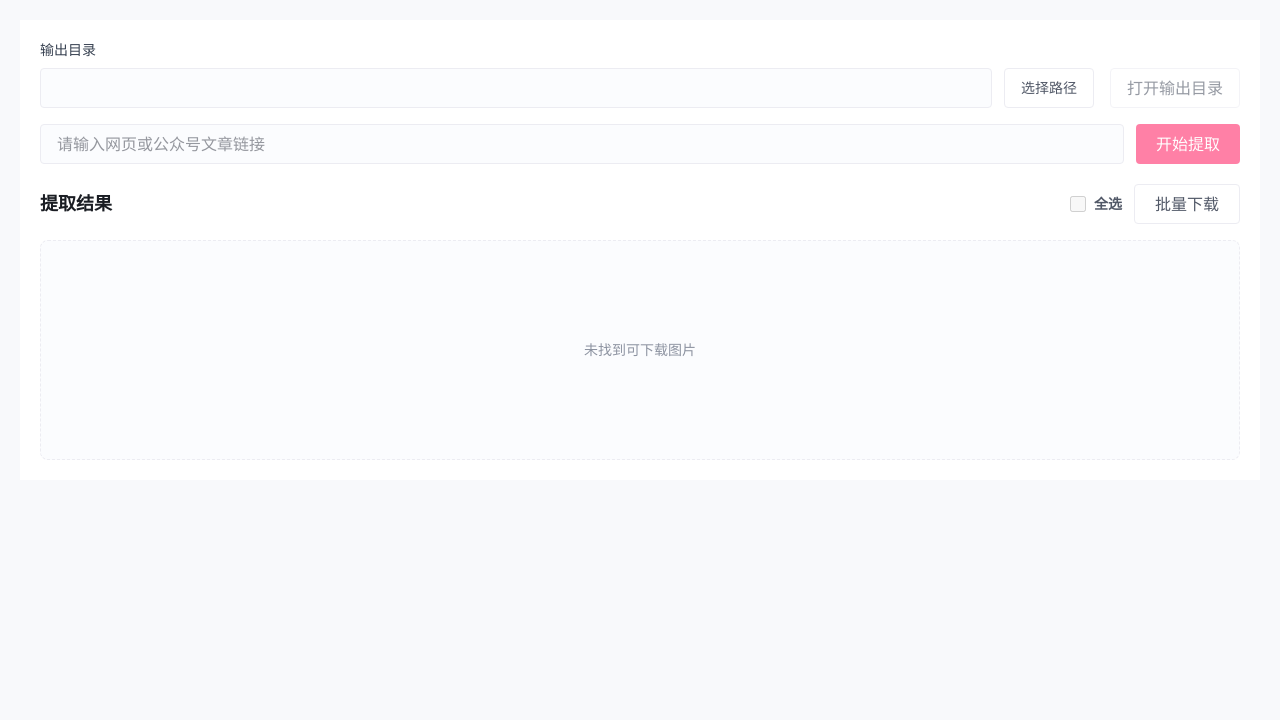
Test case: ImageDownloadPage › renders results as a square product grid without selected red borders
The width and height of the screenshot is (1280, 720).
Step 1. Click the button "选择路径" → (1049, 88), box [1004, 68, 1094, 108]
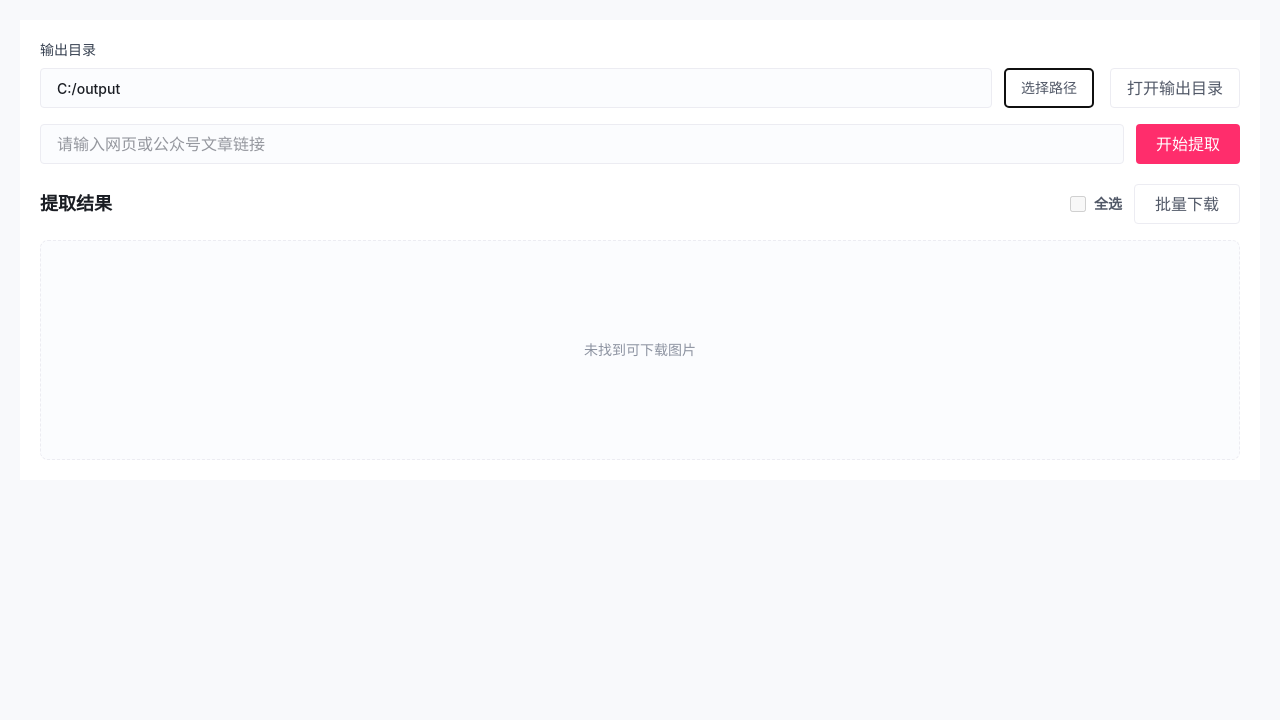
Step 2. Type "https://example.com/post" into the field with placeholder "请输入网页或公众号文章链接" → (582, 144), box [40, 124, 1124, 164]
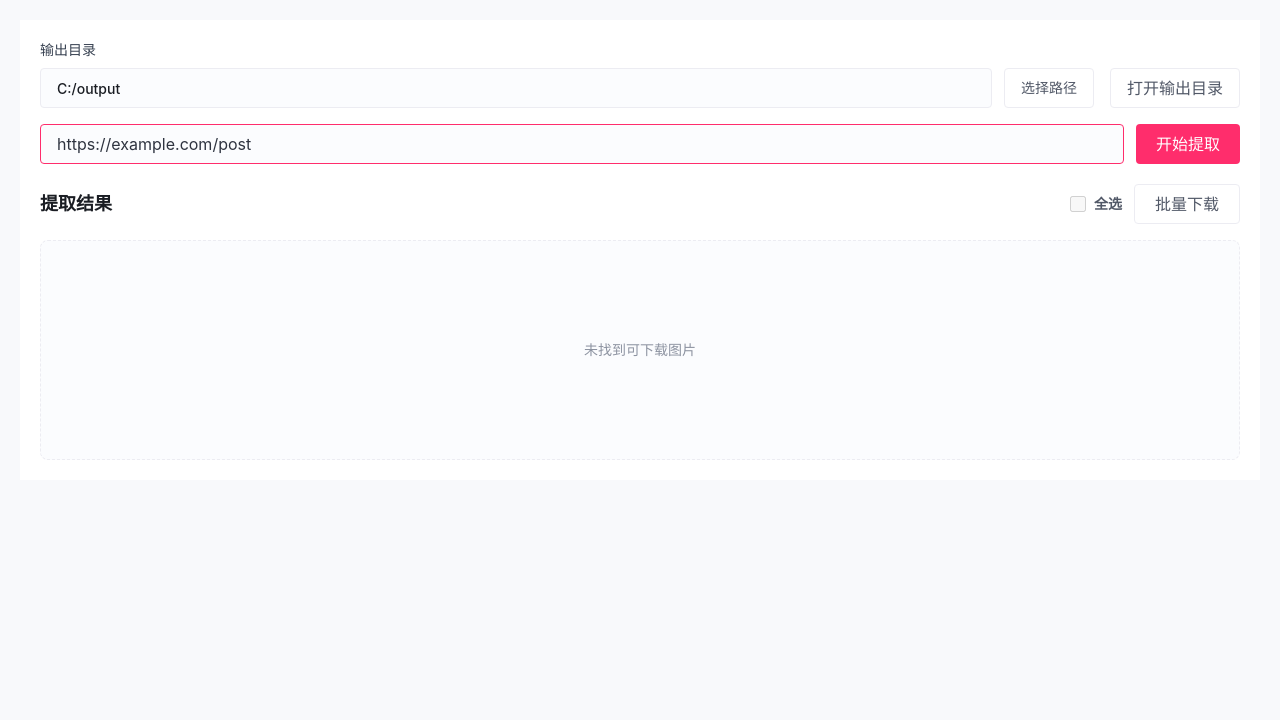
Step 3. Click the button "开始提取" → (1188, 144), box [1136, 124, 1240, 164]
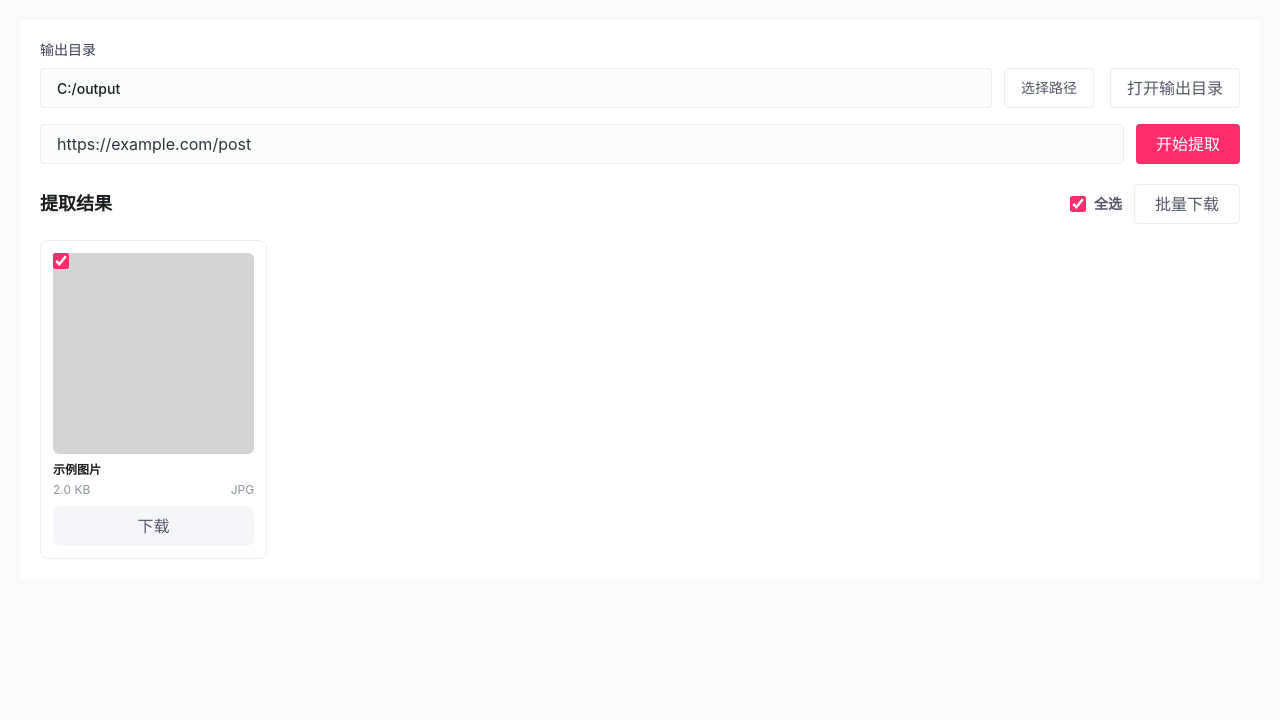
Expected: the heading "提取结果" is shown, [40, 190, 112, 218]
Expected: the text "示例图片" is shown, [53, 462, 101, 477]
